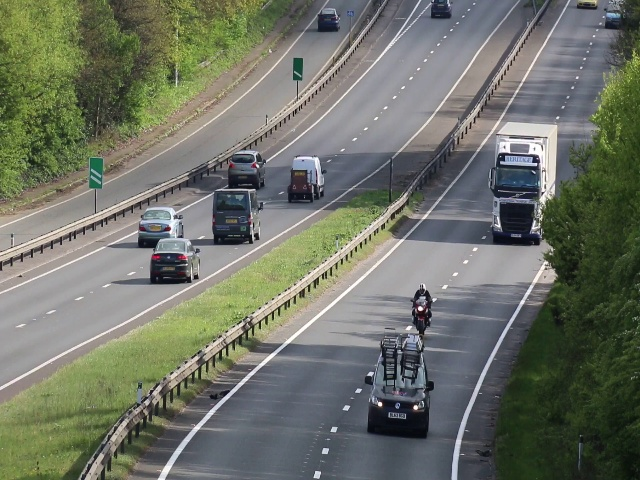car: (491, 124, 548, 248), (372, 359, 429, 435), (210, 189, 264, 242), (148, 239, 203, 282), (137, 208, 186, 242), (289, 156, 325, 199), (229, 151, 267, 187), (317, 11, 341, 31), (431, 1, 451, 19)
